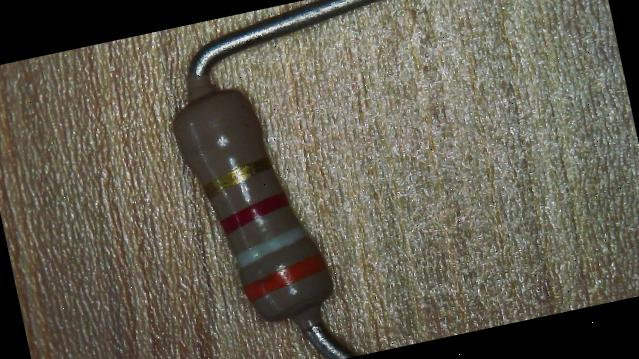gold: (199, 155, 274, 196)
orange: (239, 253, 328, 303)
red: (216, 191, 292, 235)
resistor: (145, 59, 365, 339)
white: (232, 225, 310, 268)
